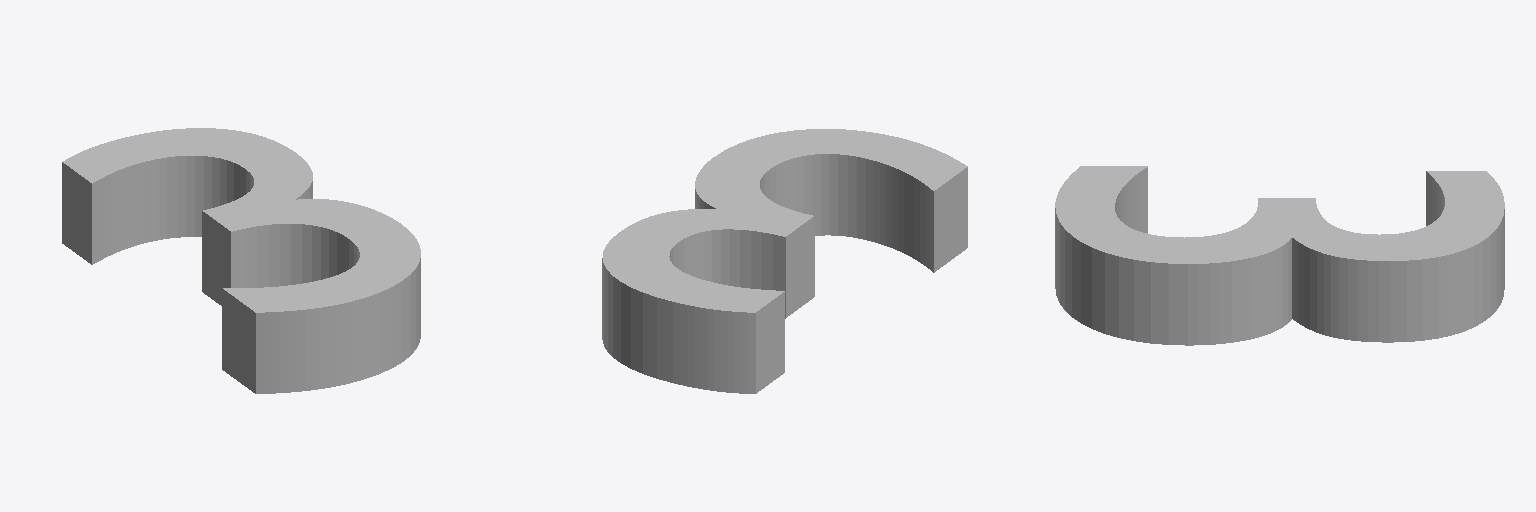
Rendered from Number_3.obj.
3 renders of one model, left to right at view 1: azimuth 30°, elevation 25°; view 2: azimuth 150°, elevation 25°; view 3: azimuth 270°, elevation 25°, orthographic.
Parts seen in each view (by area): view 1: Text; view 2: Text; view 3: Text.
Boxes of the visible parts, x1,y1,x2,y2 form: Text: [62, 128, 420, 393]; Text: [602, 129, 967, 393]; Text: [1055, 166, 1504, 345].
Size of the model in its own units: 0.36 by 0.14 by 0.7.